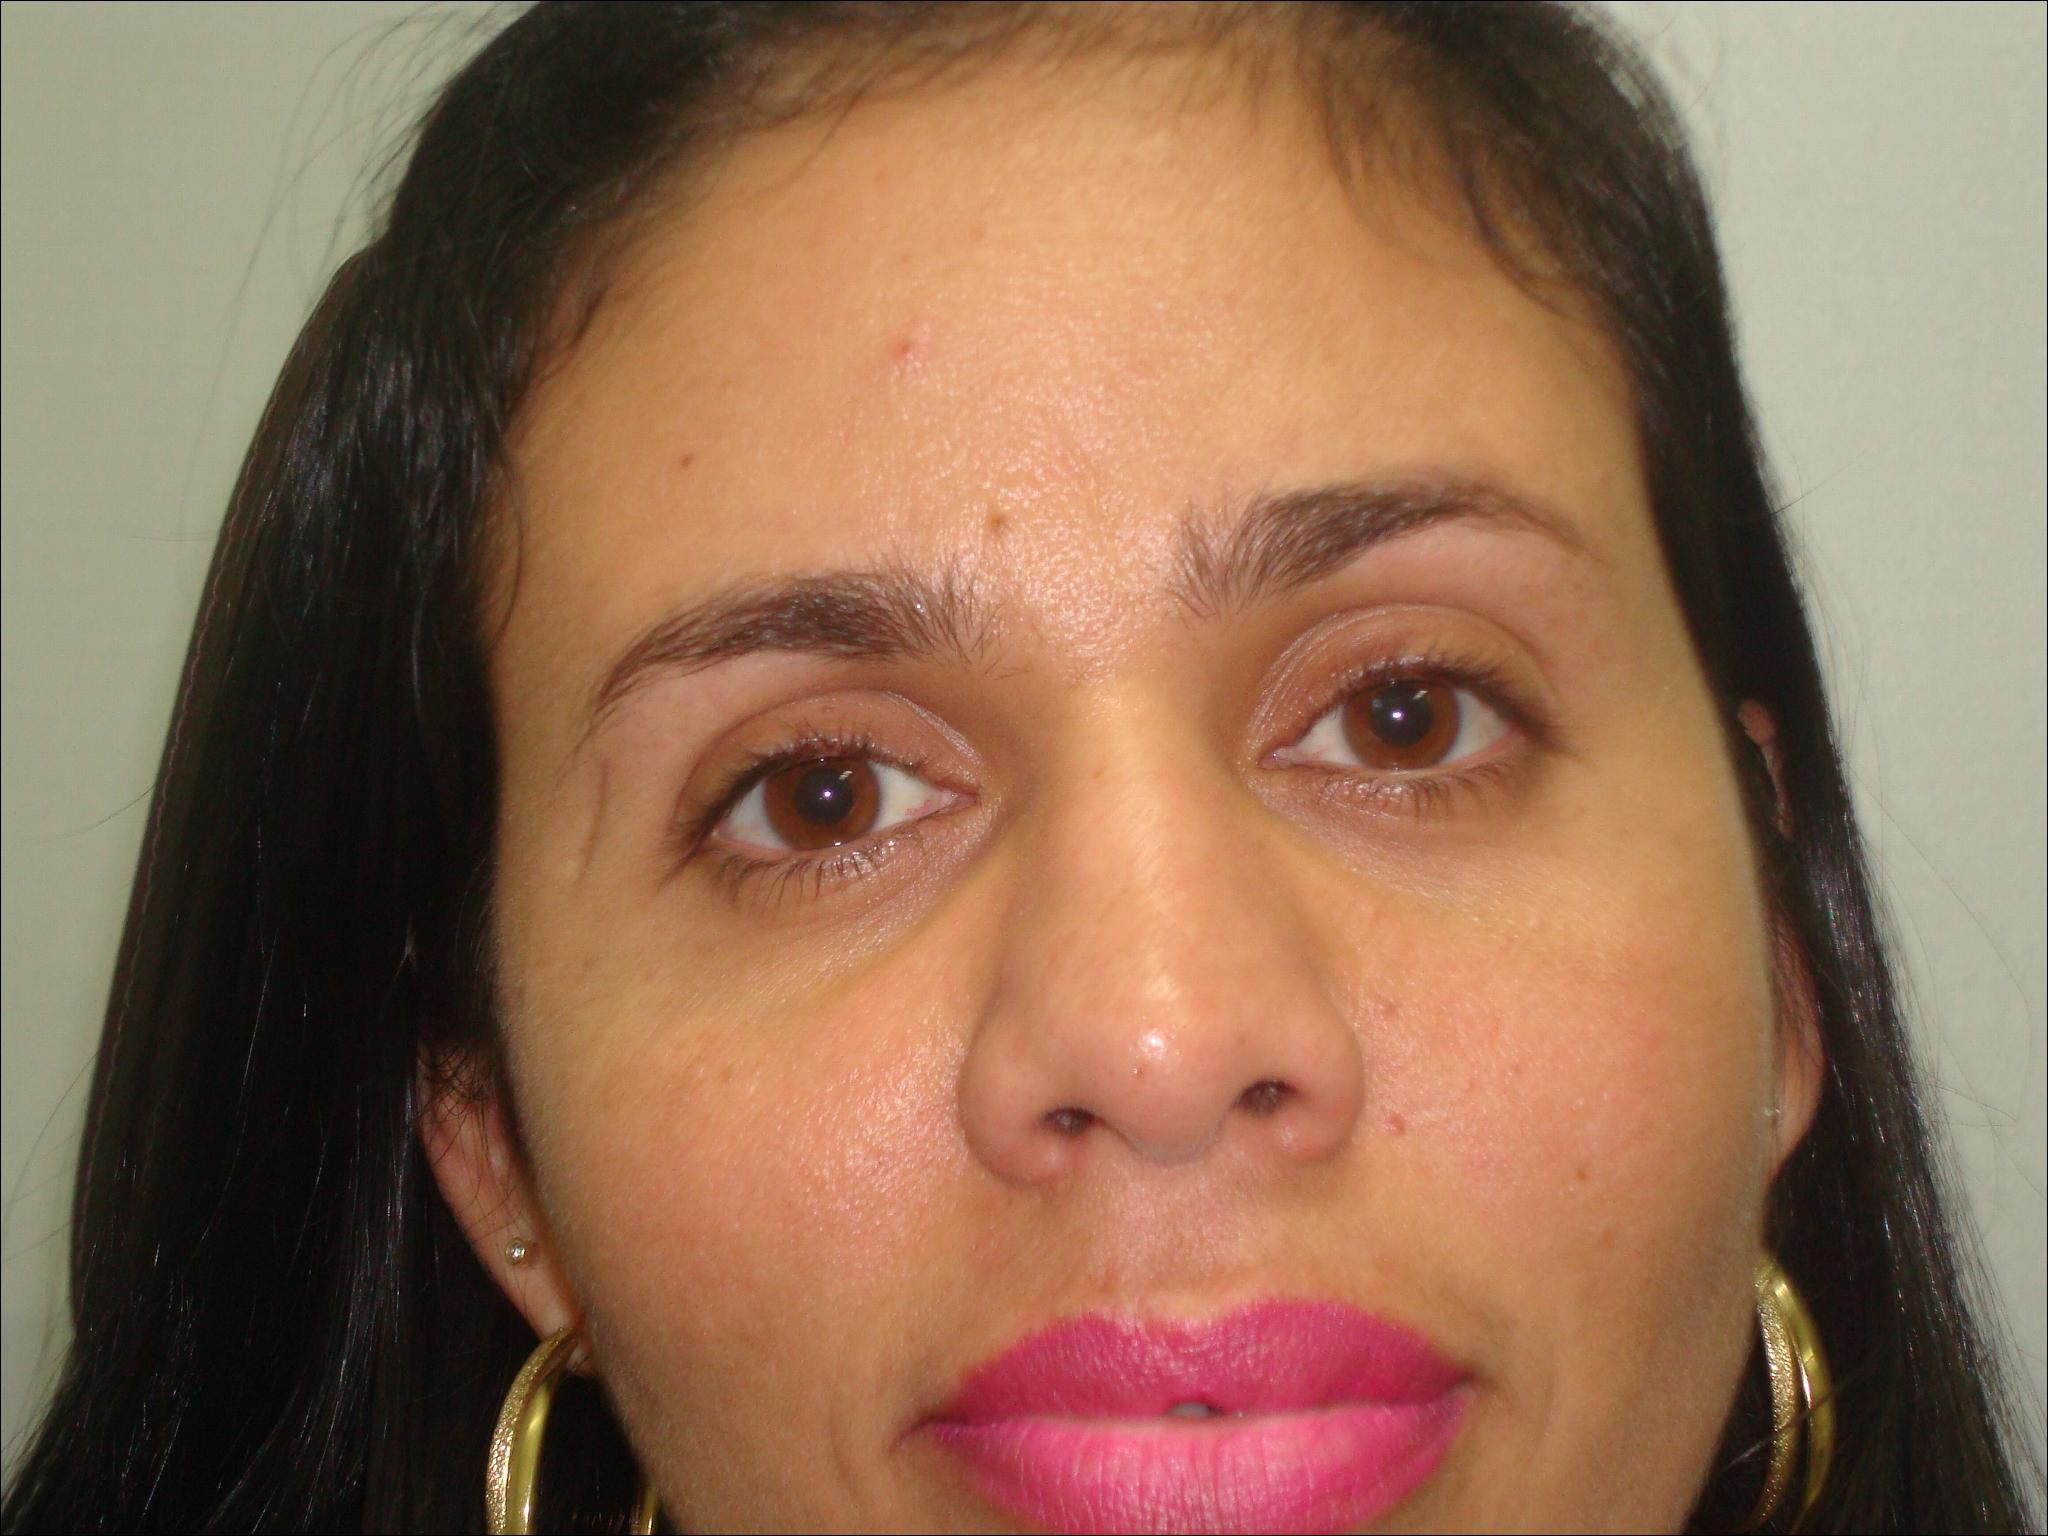flash: (818, 786, 837, 803), (1388, 705, 1406, 724)
limbo: (1337, 663, 1461, 768), (766, 741, 884, 849)
